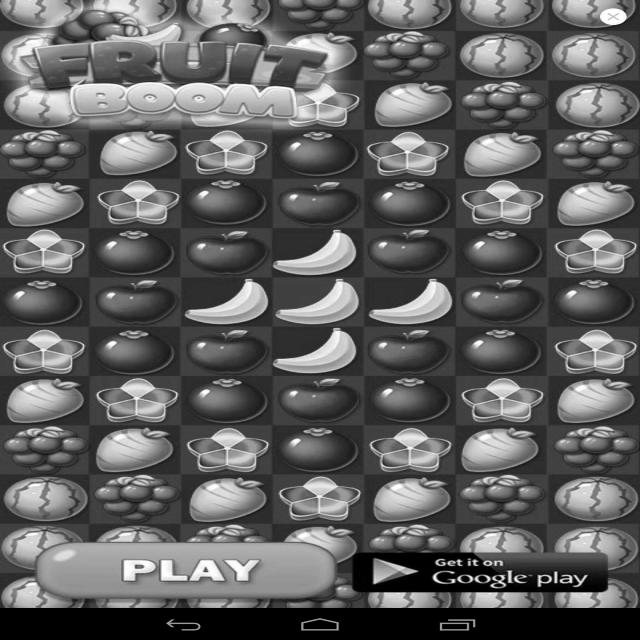Button: (32, 541, 339, 601), (350, 548, 612, 594)
ImageButton: (594, 6, 631, 29)
ImageView: (33, 181, 618, 523), (16, 11, 394, 129)
